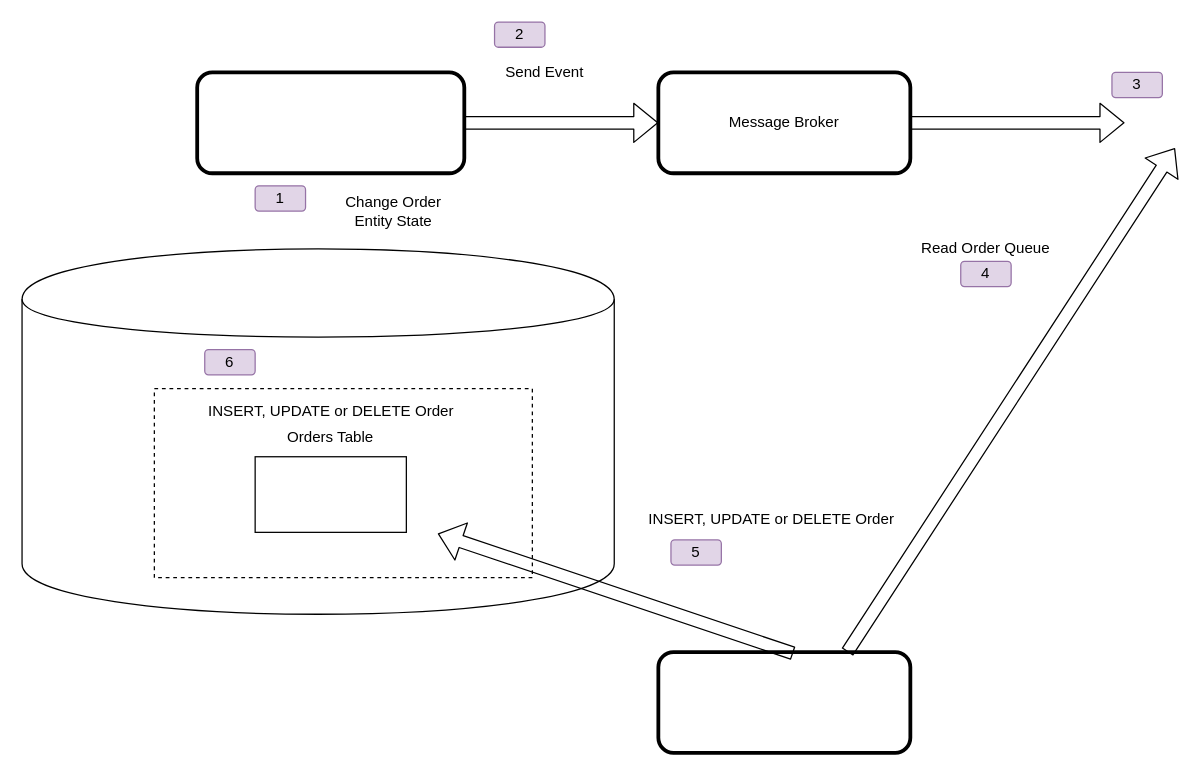
Some shapes in this 1201 by 776 pixel diagram are drawn without their labels. The shapes that lost their labels are listed below. From the top down, each one's centre as x and y in pixels, then its label:
At [330,122]: "Order Service".
At [784,702]: "Change State Capture Service".
